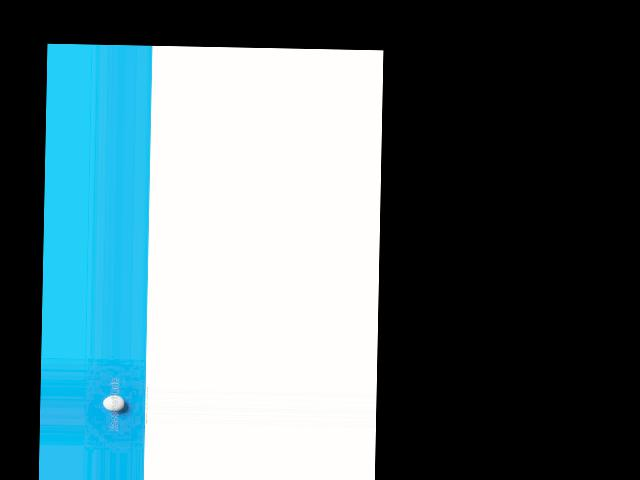egg: (102, 395, 125, 411)
